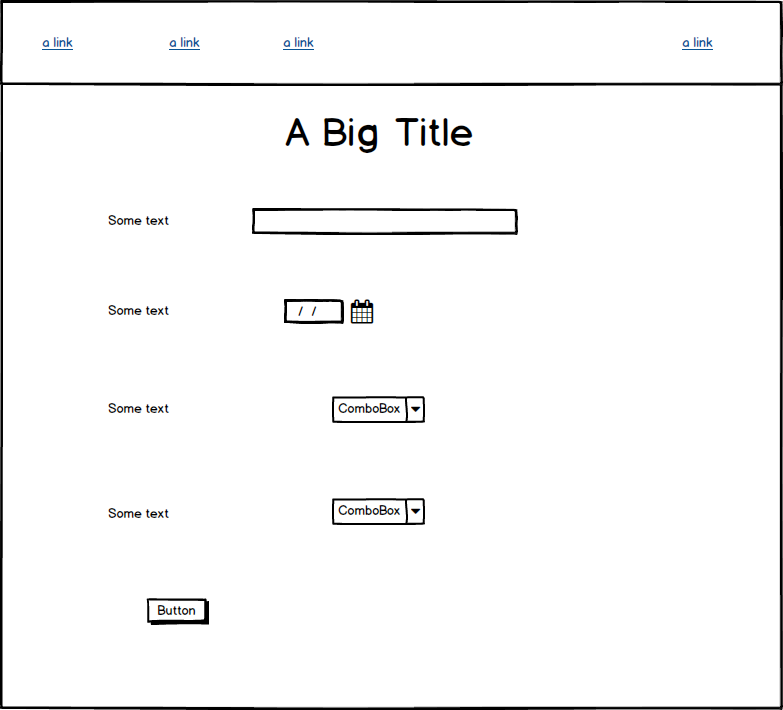button: (142, 594, 215, 632)
date_picker: (278, 291, 380, 332)
h1: (275, 109, 482, 157)
input: (248, 204, 524, 240)
label: (99, 502, 181, 531), (103, 205, 176, 232), (101, 300, 175, 322), (102, 395, 175, 417)
navlink: (34, 30, 84, 57), (275, 32, 321, 60), (166, 31, 206, 57), (679, 32, 718, 55)
select_box: (327, 390, 431, 428), (327, 494, 428, 528)
